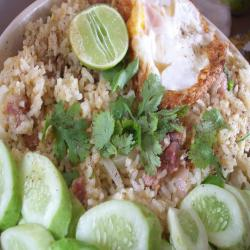rice: (17, 28, 126, 146)
